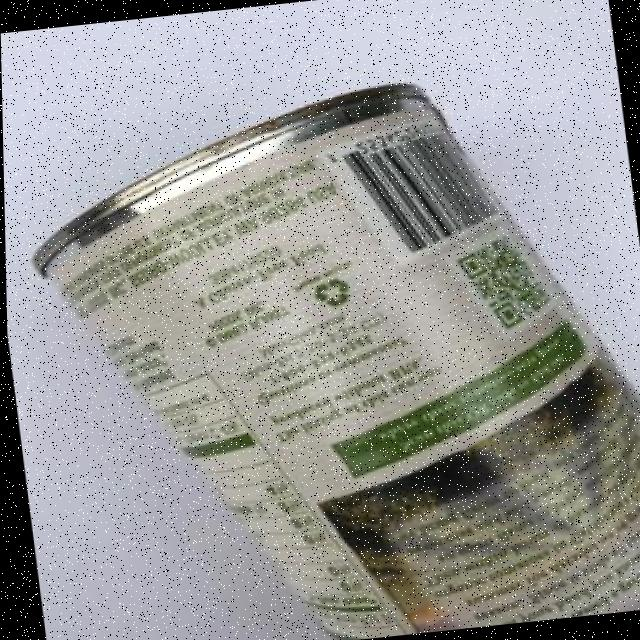metal: (7, 49, 640, 640)
